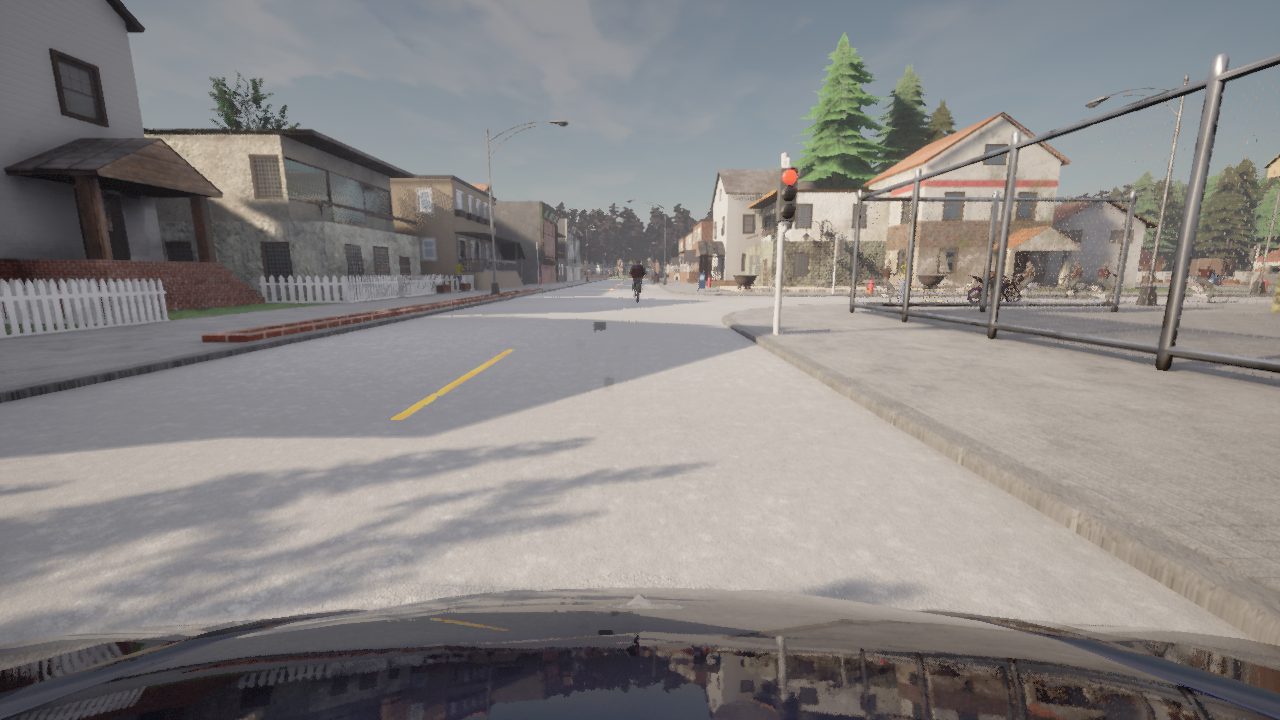cyclist: (0, 588, 1279, 719), (965, 273, 1020, 302), (1185, 276, 1229, 302), (1084, 276, 1128, 302), (868, 279, 912, 302), (1049, 282, 1087, 297), (1021, 283, 1040, 297), (636, 283, 640, 302)
pedestrian: (895, 257, 913, 302), (453, 259, 466, 293)
